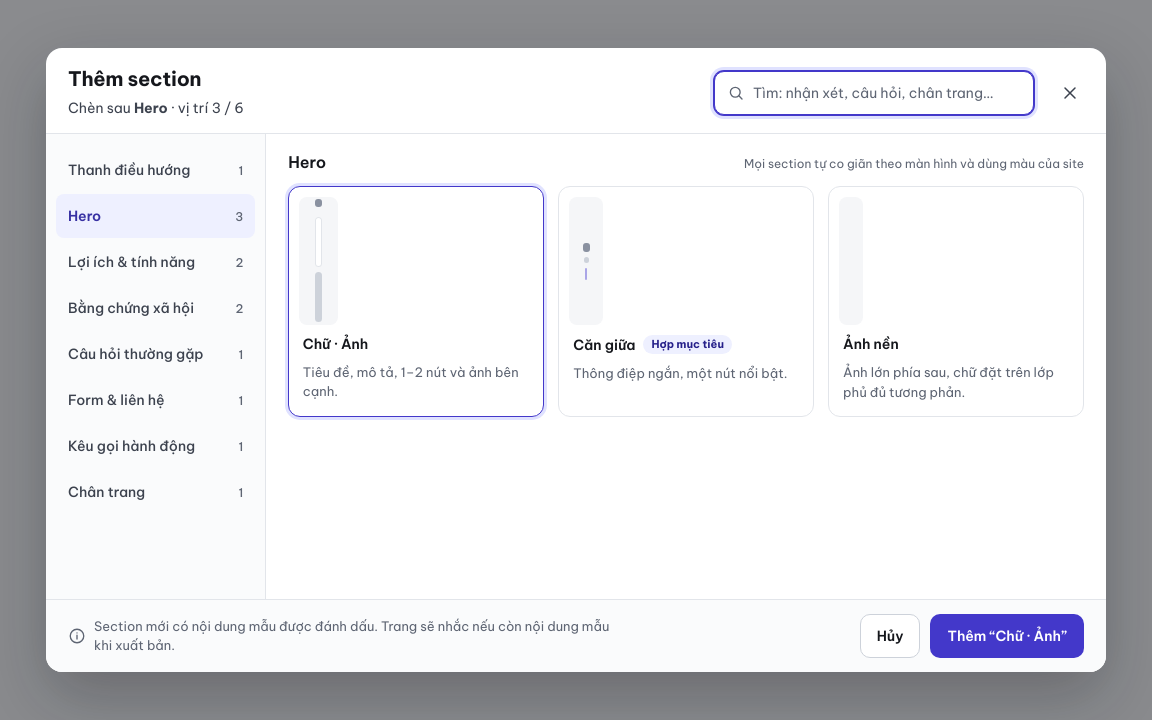
Test case: AddSectionDialog › disables singletons that are already on the page
Click the button "Chân trang 1" at (156, 492), box [56,470,255,514]
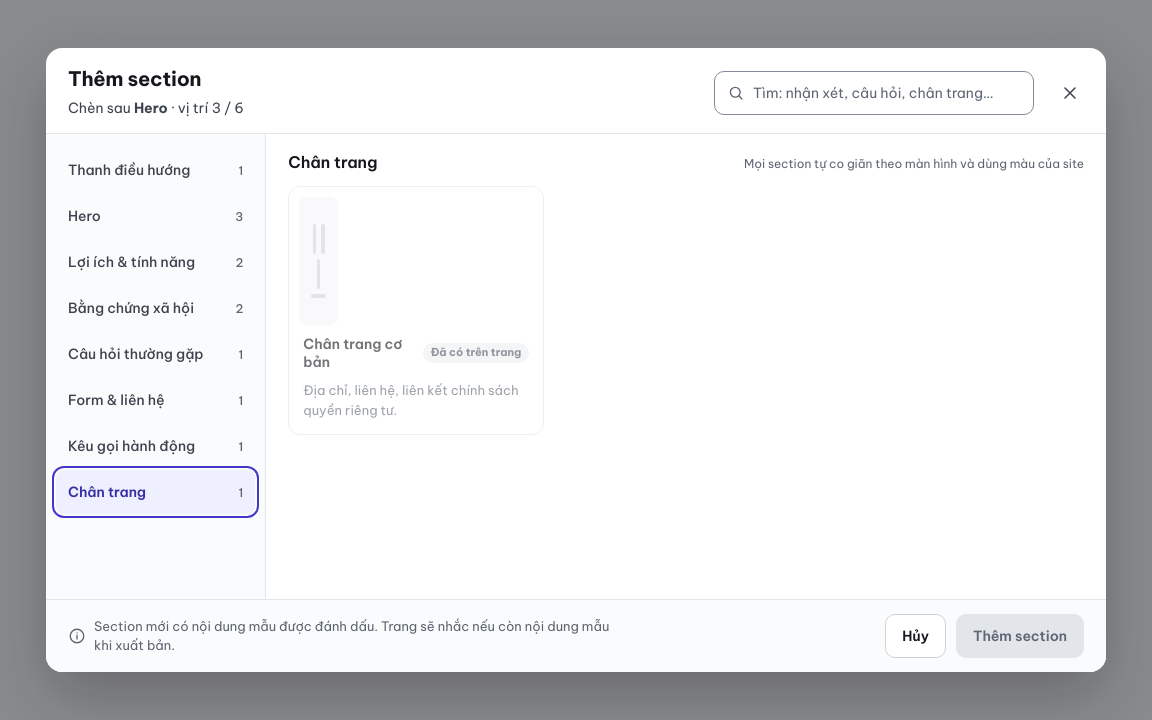
Expected: the text "Đã có trên trang" is shown, [423,343,529,363]
Expected: the button "Thêm section" is disabled, [956,614,1084,658]
